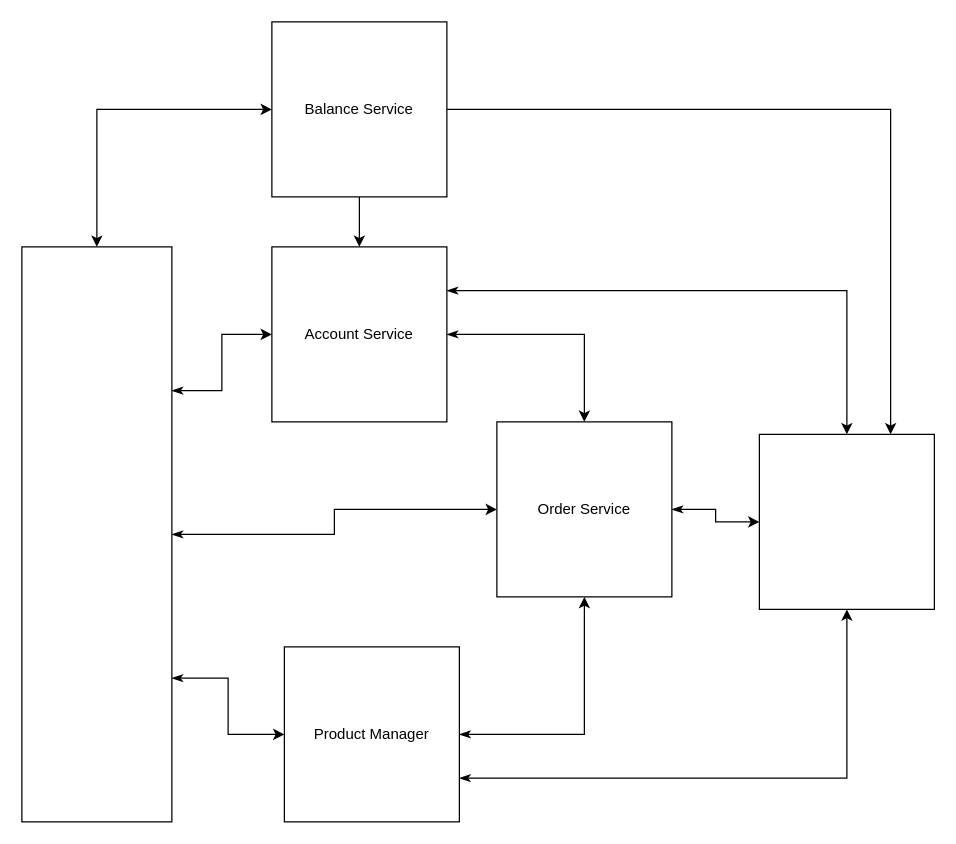
Some shapes in this 956 by 844 pixel diagram are drawn without their labels. Here are the shapes that lost their labels. From the top down, the centre of each, then its label:
the point at 96,534: API
the point at 846,521: Transaction Log Service
